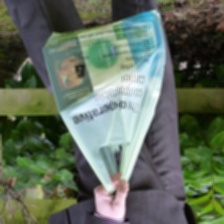plastic_bag: (39, 8, 169, 199)
